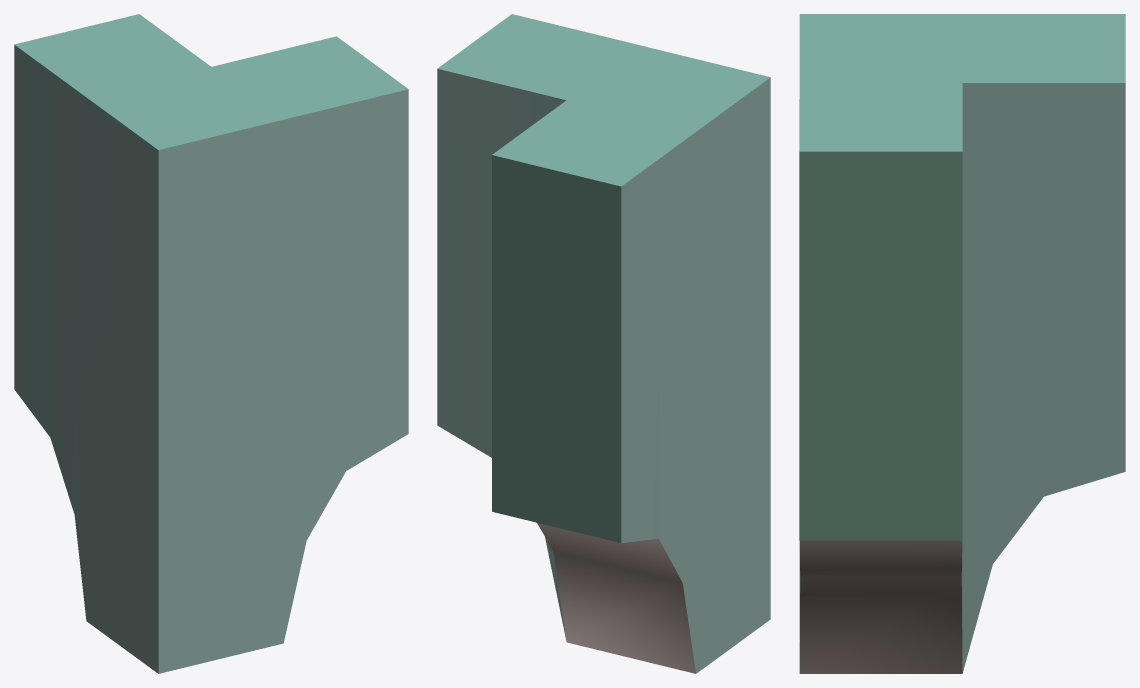
The model's file is SM_ArcheAngle1x1.FBX.
3 views of the same model, side by side, from view 1: azimuth 30°, elevation 25°; view 2: azimuth 150°, elevation 25°; view 3: azimuth 270°, elevation 25° (orthographic). The views are drawn at different scales.
Parts seen in each view (by area): view 1: SM_ArcheAngle1x1; view 2: SM_ArcheAngle1x1; view 3: SM_ArcheAngle1x1.
Part boxes in pixels (box(x1,y1,x2,y2)): SM_ArcheAngle1x1: box(14, 14, 408, 673); SM_ArcheAngle1x1: box(437, 14, 770, 673); SM_ArcheAngle1x1: box(799, 14, 1125, 673).
Size of the model in its own units: 49.98 by 100 by 49.99.
